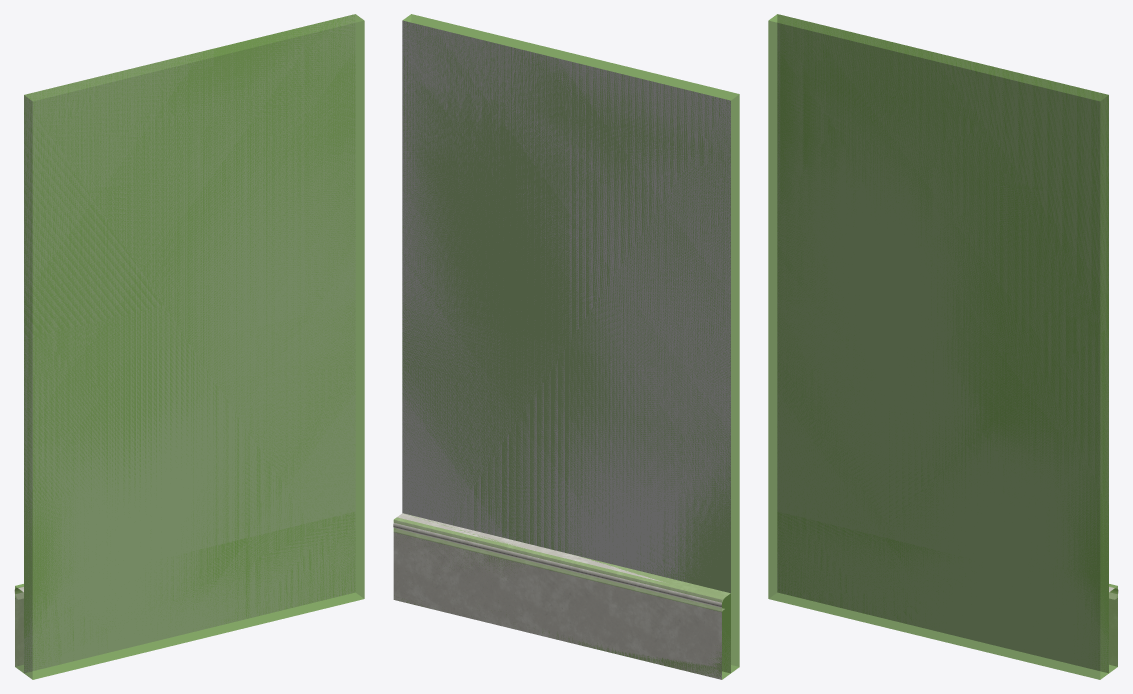
File: F3_md_StreetWall_5x3_01.fbx
The picture shows the model from 3 angles, left to right: view 1: azimuth 30°, elevation 25°; view 2: azimuth 150°, elevation 25°; view 3: azimuth 330°, elevation 25°; orthographic projection.
Parts seen in each view (by area): view 1: F3_md_StreetWall_5x3_01_col_02, F3_md_StreetWall_5x3_01_LOD0, F3_md_StreetWall_5x3_01_col_01; view 2: F3_md_StreetWall_5x3_01_LOD0, F3_md_StreetWall_5x3_01_col_02, F3_md_StreetWall_5x3_01_col_01; view 3: F3_md_StreetWall_5x3_01_col_02, F3_md_StreetWall_5x3_01_LOD0, F3_md_StreetWall_5x3_01_col_01.
Boxes of the visible parts, x1,y1,x2,y2 form: F3_md_StreetWall_5x3_01_col_02: (24, 14, 364, 679); F3_md_StreetWall_5x3_01_LOD0: (14, 14, 355, 672); F3_md_StreetWall_5x3_01_col_01: (15, 513, 354, 673); F3_md_StreetWall_5x3_01_LOD0: (393, 20, 730, 679); F3_md_StreetWall_5x3_01_col_02: (402, 14, 739, 672); F3_md_StreetWall_5x3_01_col_01: (393, 515, 730, 679); F3_md_StreetWall_5x3_01_col_02: (768, 14, 1108, 679); F3_md_StreetWall_5x3_01_LOD0: (777, 14, 1118, 672); F3_md_StreetWall_5x3_01_col_01: (778, 513, 1117, 673).
Size of what is drawn, in the model's own units: 300 by 500 by 28.72.
